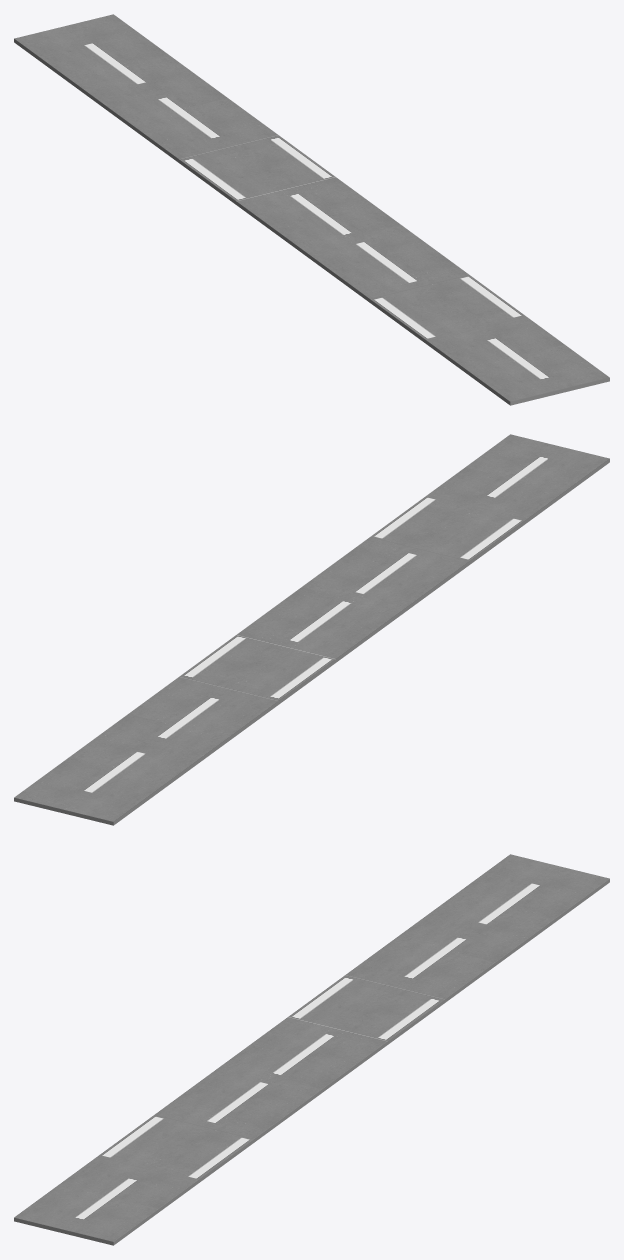
The model's file is Road test export.fbx.
The picture shows the model from 3 angles, top to bottom: view 1: azimuth 30°, elevation 25°; view 2: azimuth 150°, elevation 25°; view 3: azimuth 330°, elevation 25°; orthographic projection.
Parts seen in each view (by area): view 1: pCube236; view 2: pCube236; view 3: pCube236.
Part boxes in pixels (box(x1,y1,x2,y2)): pCube236: box(14, 14, 609, 405); pCube236: box(14, 434, 609, 825); pCube236: box(14, 854, 609, 1245).
Bounding box in the file's own units: 2.49 × 0.09 × 21.52.
